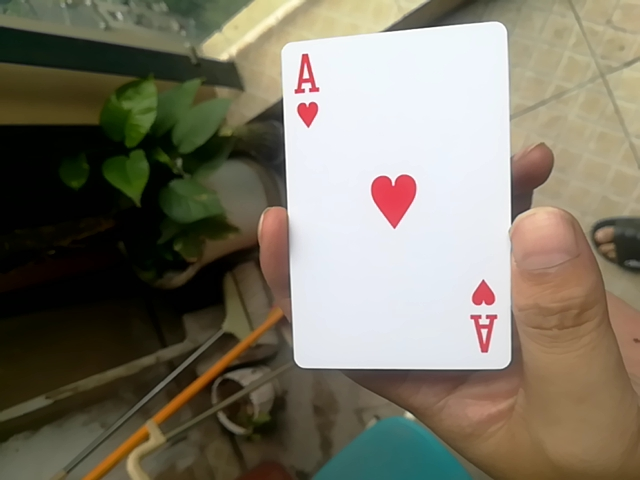hx a: (281, 19, 514, 381)
